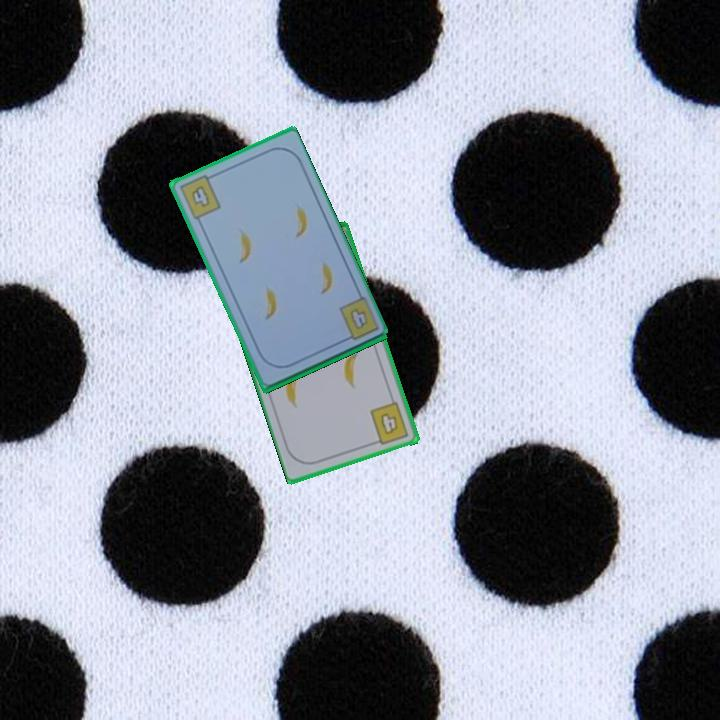4b: (176, 170, 224, 222), (367, 398, 412, 448), (346, 304, 371, 333)
